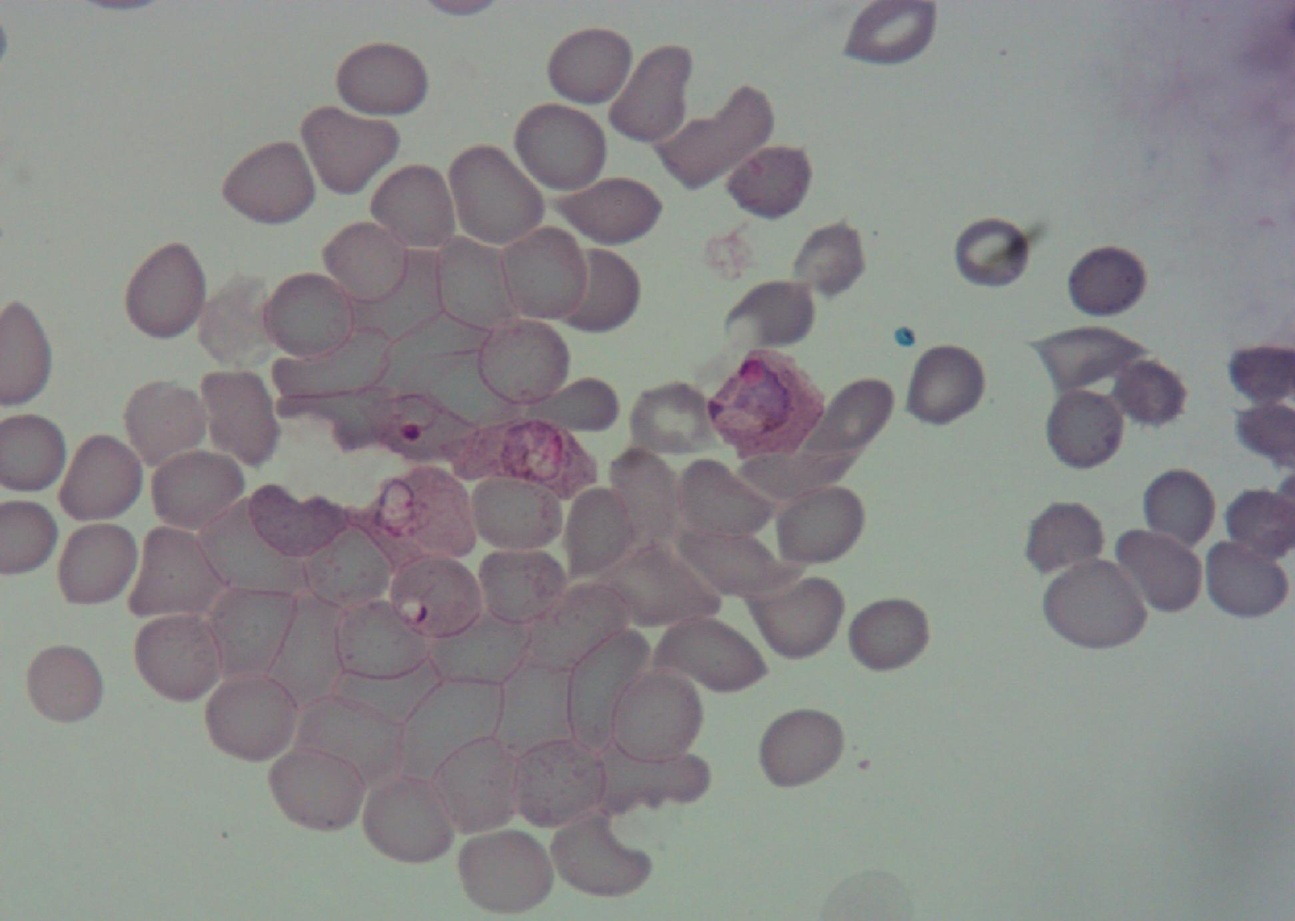Infected: (703, 343, 823, 465), (354, 466, 473, 570), (453, 416, 596, 499), (371, 385, 478, 461), (387, 553, 476, 637)
Uninfected: (197, 497, 312, 603), (657, 86, 774, 190), (602, 532, 719, 628), (448, 143, 548, 248), (297, 506, 395, 613), (568, 632, 649, 756), (544, 808, 655, 897), (519, 583, 631, 671), (125, 527, 232, 619), (263, 591, 345, 711), (1043, 556, 1147, 650), (300, 105, 403, 199), (296, 699, 406, 787), (359, 764, 456, 861), (400, 683, 501, 776), (608, 40, 696, 146), (494, 226, 591, 322), (203, 668, 301, 763), (745, 569, 845, 662), (610, 663, 701, 765), (647, 617, 767, 694), (511, 101, 610, 194), (489, 659, 579, 761), (455, 824, 556, 914), (122, 240, 210, 342), (348, 247, 442, 342), (130, 611, 227, 703), (264, 745, 363, 834), (328, 598, 436, 679), (207, 585, 300, 679), (548, 243, 643, 335), (1111, 524, 1203, 618), (432, 738, 520, 834), (678, 532, 804, 599), (149, 446, 248, 531), (516, 739, 610, 828), (260, 272, 355, 360), (270, 330, 391, 399), (606, 444, 685, 549), (563, 170, 667, 249), (56, 434, 145, 524), (52, 519, 141, 609), (480, 318, 572, 404), (330, 652, 444, 721), (332, 39, 430, 119), (196, 366, 279, 460), (676, 463, 773, 543), (224, 143, 315, 228), (755, 706, 847, 790), (596, 743, 713, 809), (476, 547, 570, 629), (426, 615, 531, 688), (468, 471, 566, 549), (543, 25, 636, 107), (121, 380, 209, 466), (1031, 320, 1140, 389), (1200, 537, 1289, 620), (247, 484, 350, 555), (903, 343, 987, 430), (198, 270, 274, 366), (1043, 386, 1126, 473), (725, 278, 818, 355), (437, 234, 513, 326), (844, 596, 932, 675), (370, 164, 454, 246), (324, 222, 410, 300), (1141, 466, 1218, 552), (775, 486, 863, 561), (27, 639, 102, 727), (723, 145, 811, 218), (1106, 354, 1190, 430), (949, 214, 1033, 289), (1021, 501, 1106, 574), (532, 372, 623, 438), (811, 380, 892, 454), (628, 382, 710, 452), (1067, 250, 1147, 320), (567, 489, 634, 569), (799, 223, 863, 299), (1225, 342, 1294, 412)
